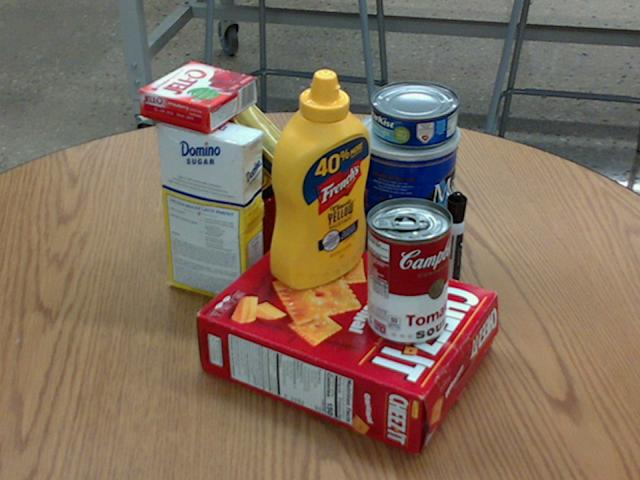cracker_box: (199, 230, 498, 454)
gelatin_box: (139, 61, 257, 132)
large_marker: (439, 191, 466, 305)
master_chef_can: (354, 108, 461, 274)
mug: (194, 159, 285, 265)
mustard_bottle: (269, 68, 369, 289)
potted_meat_can: (173, 95, 302, 222)
sugar_box: (156, 111, 264, 307)
tomato_soup_can: (366, 196, 453, 344)
tuna_fish_can: (372, 81, 459, 147)
